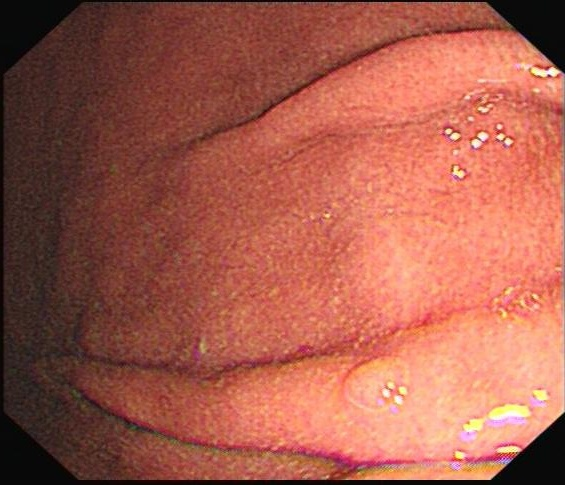Polyp: (321, 360, 411, 418)
